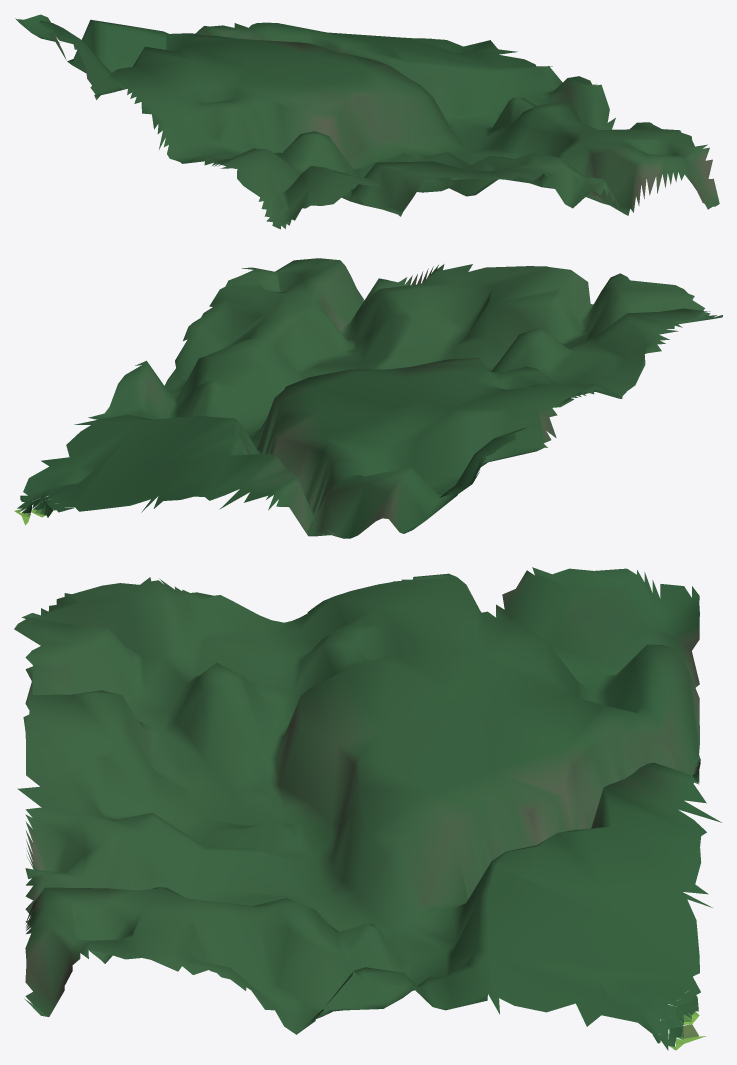
The model's file is payo_land_xm2_y7_lod2.glb.
The picture shows the model from 3 angles, top to bottom: view 1: azimuth 30°, elevation 25°; view 2: azimuth 150°, elevation 25°; view 3: azimuth 270°, elevation 25°; orthographic projection. The views are drawn at different scales.
Visible parts, largest first — view 1: payo_land_xm2_y7; view 2: payo_land_xm2_y7; view 3: payo_land_xm2_y7.
Boxes of the visible parts, <box> form: payo_land_xm2_y7: <box>15,14,719,229</box>; payo_land_xm2_y7: <box>14,258,722,538</box>; payo_land_xm2_y7: <box>14,567,721,1050</box>.
Bounding box in the file's own units: 267 × 84.64 × 271.
